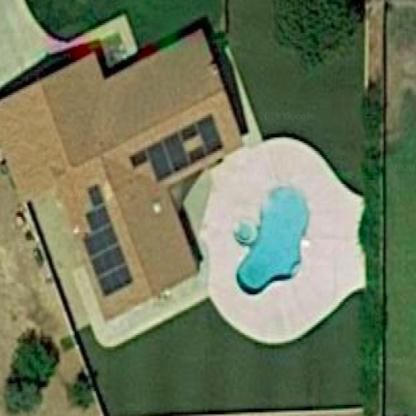solar_panel: (75, 171, 141, 307), (128, 108, 236, 186)
swimming_pool: (226, 176, 348, 299)
